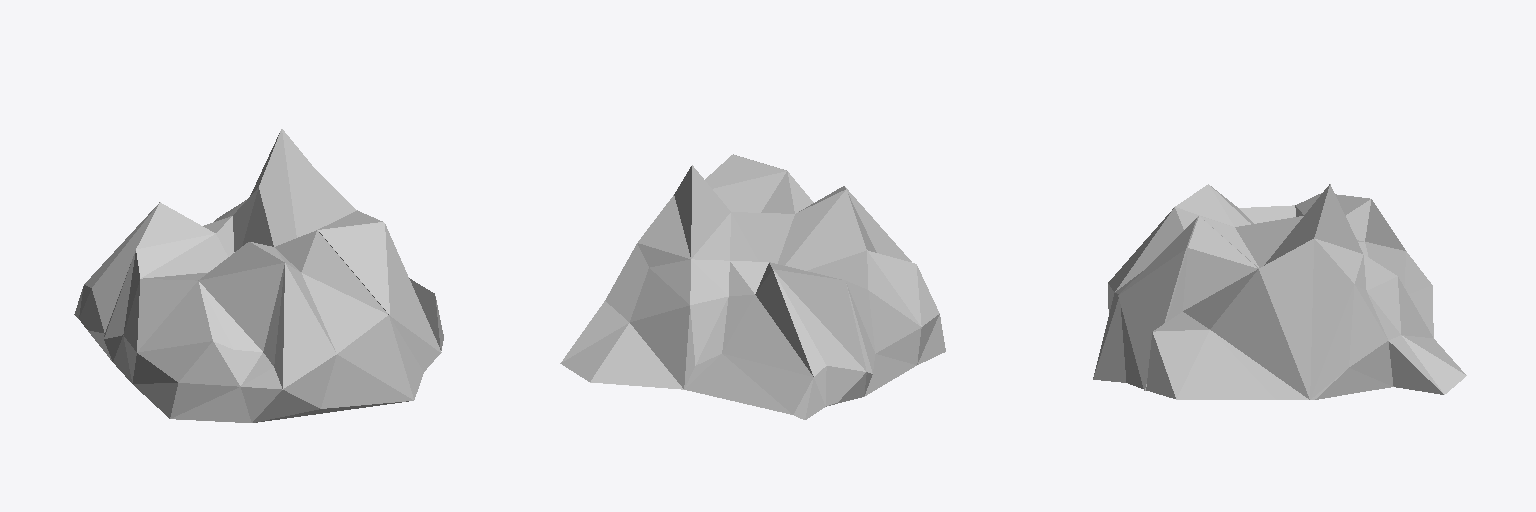
The model's file is mining_rock1.obj.
3 renders of one model, left to right at view 1: azimuth 30°, elevation 25°; view 2: azimuth 150°, elevation 25°; view 3: azimuth 270°, elevation 25°, orthographic.
Visible parts, largest first — view 1: Sphere; view 2: Sphere; view 3: Sphere.
Part boxes in pixels (bbox=[...]): Sphere: bbox=[74, 129, 443, 422]; Sphere: bbox=[560, 154, 945, 419]; Sphere: bbox=[1093, 184, 1466, 399].
Bounding box in the file's own units: 2.31 × 1.57 × 2.74.